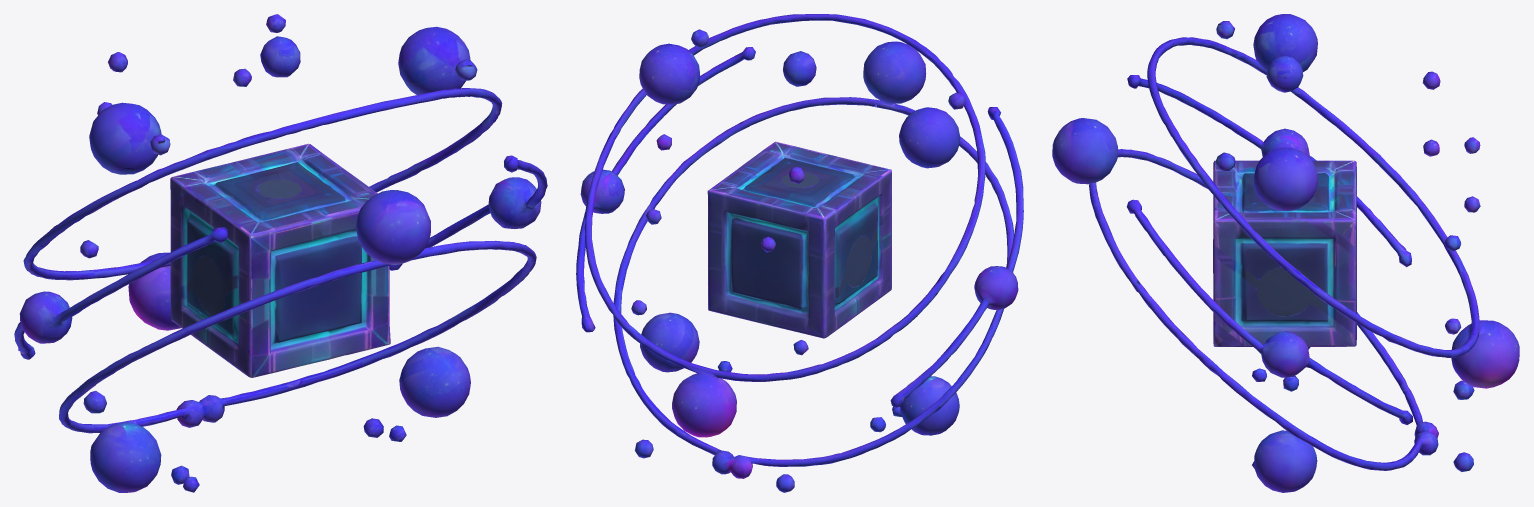
File: Quantum2.glb
3 views of the same model, side by side, from view 1: azimuth 30°, elevation 25°; view 2: azimuth 150°, elevation 25°; view 3: azimuth 270°, elevation 25° (orthographic). The views are drawn at different scales.
Bounding box in the file's own units: 2 × 1.66 × 1.79.
Materials: 1 (1 with a texture image).
